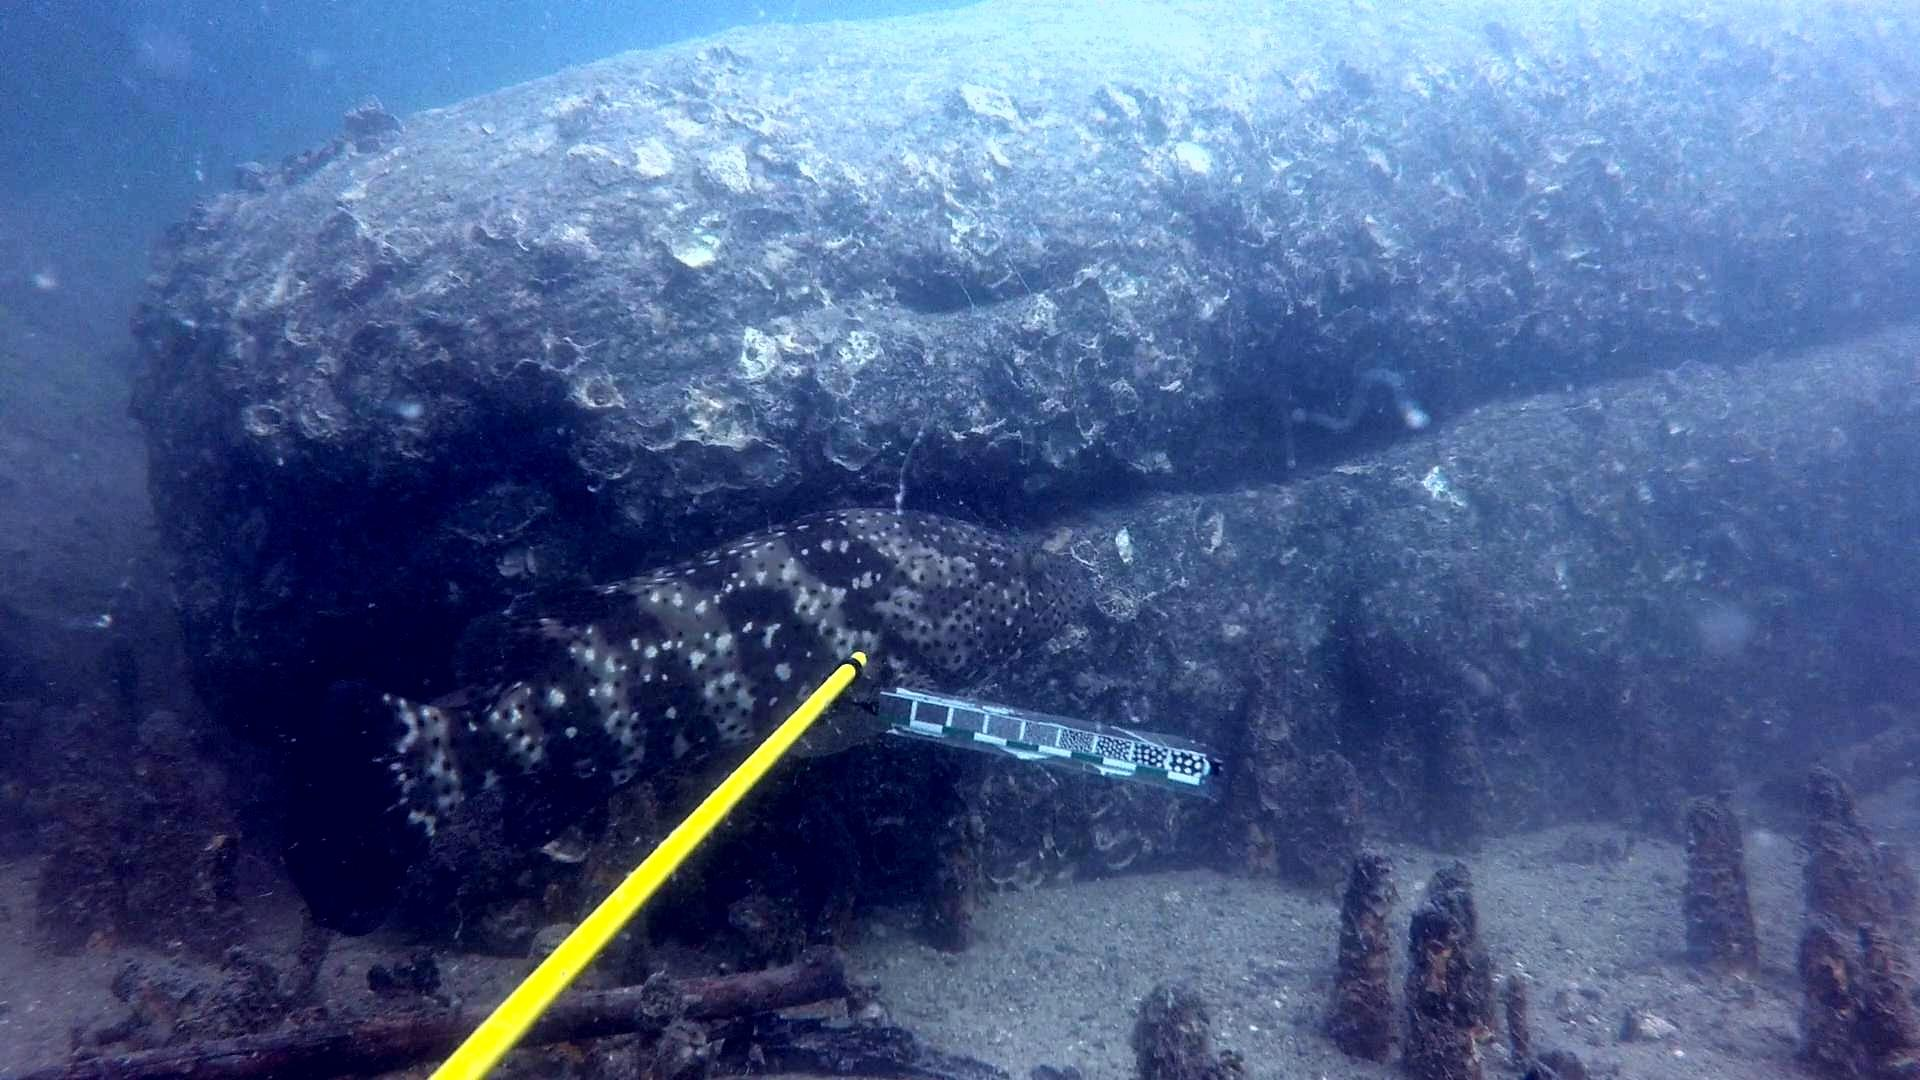epinephelus: (298, 498, 1108, 940)
